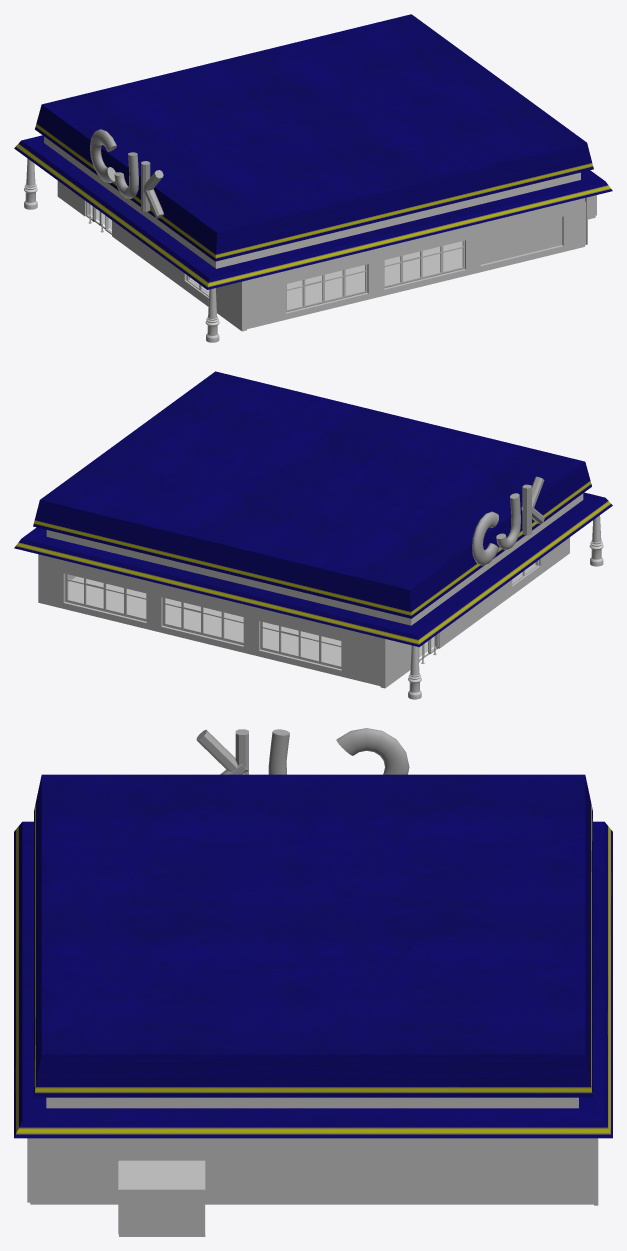
The model's file is BigMall.fbx.
3 views of the same model, one above another, from view 1: azimuth 30°, elevation 25°; view 2: azimuth 150°, elevation 25°; view 3: azimuth 270°, elevation 25° (orthographic). The views are drawn at different scales.
Parts seen in each view (by area): view 1: pCube679, pCube676, pCube666, pCube589, pCube678, pCube619, pTorus1, pCube634, pCube635, pTorus2, pasted__pillar17, pasted__pillar16; view 2: pCube679, pCube676, pCube650, pCube589, pCube678, pCube619, pTorus1, pCube649, pCube631, pCube633, pTorus2, pasted__pillar16 (+2 smaller); view 3: pCube679, pCube700, pCube676, pCube678, pCube629, pCube628, pTorus1, pTorus2, pCube681.
Boxes of the visible parts, x1=… form: pCube679: x1=35, y1=14, x2=593, y2=261; pCube676: x1=14, y1=135, x2=612, y2=289; pCube666: x1=247, y1=198, x2=584, y2=329; pCube589: x1=89, y1=202, x2=585, y2=312; pCube678: x1=44, y1=136, x2=580, y2=268; pCube619: x1=57, y1=181, x2=246, y2=331; pTorus1: x1=90, y1=129, x2=116, y2=183; pCube634: x1=285, y1=264, x2=367, y2=311; pCube635: x1=383, y1=240, x2=464, y2=288; pTorus2: x1=114, y1=152, x2=138, y2=198; pasted__pillar17: x1=205, y1=288, x2=219, y2=342; pasted__pillar16: x1=24, y1=158, x2=37, y2=209; pCube679: x1=33, y1=371, x2=591, y2=618; pCube676: x1=14, y1=492, x2=612, y2=647; pCube650: x1=38, y1=554, x2=380, y2=685; pCube589: x1=65, y1=562, x2=535, y2=669; pCube678: x1=46, y1=493, x2=583, y2=625; pCube619: x1=380, y1=537, x2=569, y2=688; pTorus1: x1=472, y1=511, x2=498, y2=565; pCube649: x1=65, y1=574, x2=146, y2=620; pCube631: x1=260, y1=621, x2=341, y2=668; pCube633: x1=163, y1=597, x2=243, y2=644; pTorus2: x1=496, y1=493, x2=520, y2=549; pasted__pillar16: x1=408, y1=645, x2=421, y2=699; pCube679: x1=34, y1=774, x2=592, y2=1097; pCube700: x1=30, y1=1138, x2=595, y2=1204; pCube676: x1=14, y1=821, x2=612, y2=1138; pCube678: x1=46, y1=1097, x2=578, y2=1108; pCube629: x1=122, y1=1193, x2=204, y2=1234; pCube628: x1=119, y1=1160, x2=205, y2=1193; pTorus1: x1=336, y1=728, x2=409, y2=774; pTorus2: x1=268, y1=729, x2=289, y2=774; pCube681: x1=196, y1=729, x2=244, y2=774.
Bounding box in the file's own units: 57 × 16.59 × 45.04.
